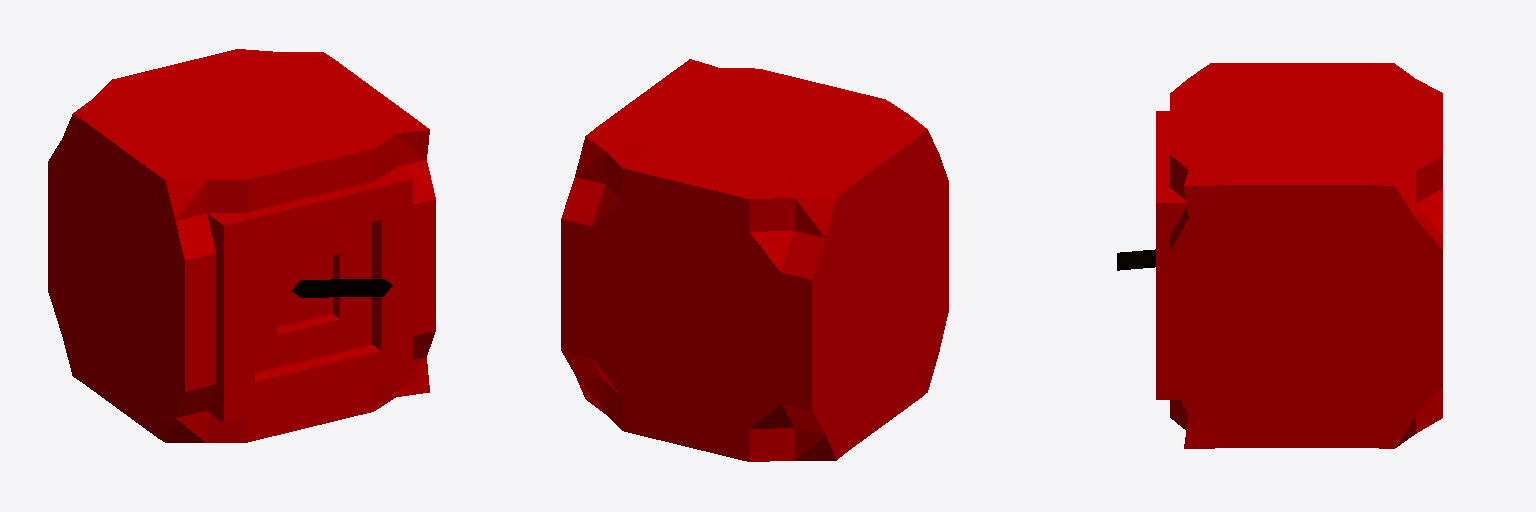
File: apple.obj
3 renders of one model, left to right at view 1: azimuth 30°, elevation 25°; view 2: azimuth 150°, elevation 25°; view 3: azimuth 270°, elevation 25°, orthographic.
Parts seen in each view (by area): view 1: Cube; view 2: Cube; view 3: Cube.
Boxes of the visible parts, box(x1,y1,x2,y2) form: Cube: box(48, 49, 435, 442); Cube: box(561, 59, 948, 461); Cube: box(1117, 63, 1442, 448).
Bounding box in the file's own units: 2.01 × 2.01 × 2.25.